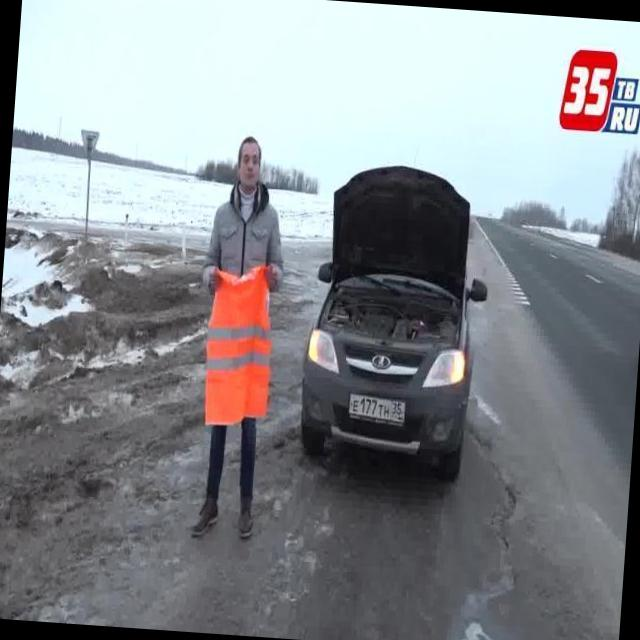safety_vest: (196, 262, 278, 434)
